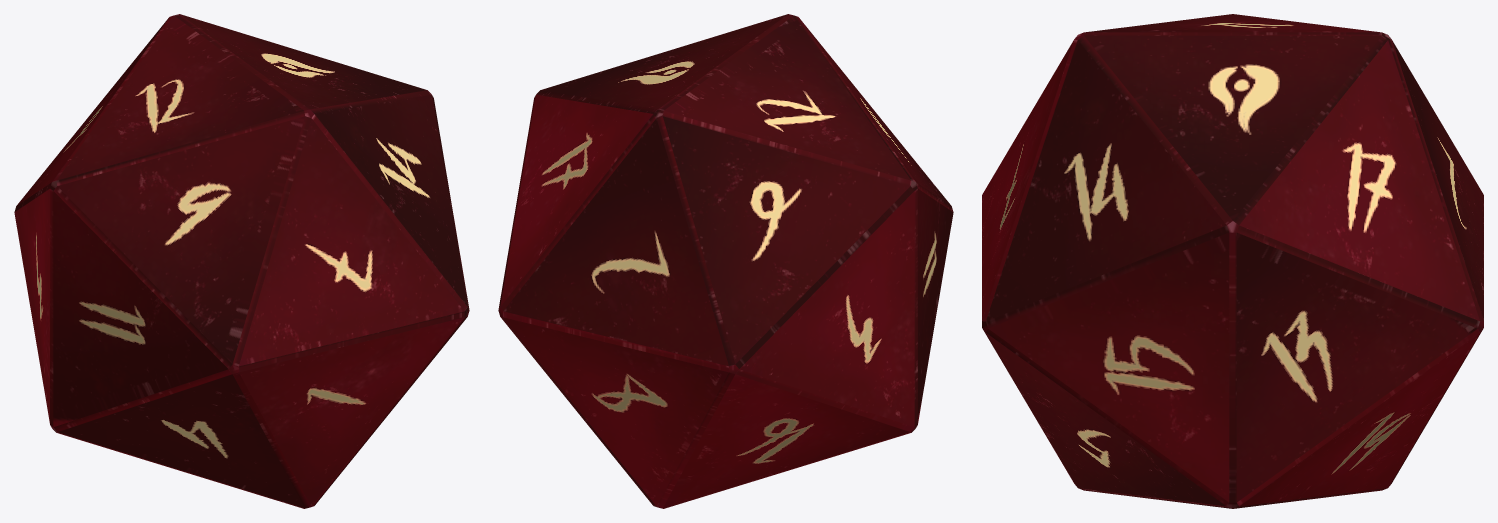
The model's file is DragonGem_d20.glb.
3 renders of one model, left to right at view 1: azimuth 30°, elevation 25°; view 2: azimuth 150°, elevation 25°; view 3: azimuth 270°, elevation 25°, orthographic. The views are drawn at different scales.
Parts seen in each view (by area): view 1: d20.001; view 2: d20.001; view 3: d20.001.
Part boxes in pixels (x1,y1,x2,y2): d20.001: [14, 14, 469, 508]; d20.001: [498, 14, 953, 508]; d20.001: [982, 14, 1483, 508].
Size of the model in its own units: 170 by 170 by 170.
Materials: 1 (1 with a texture image).
